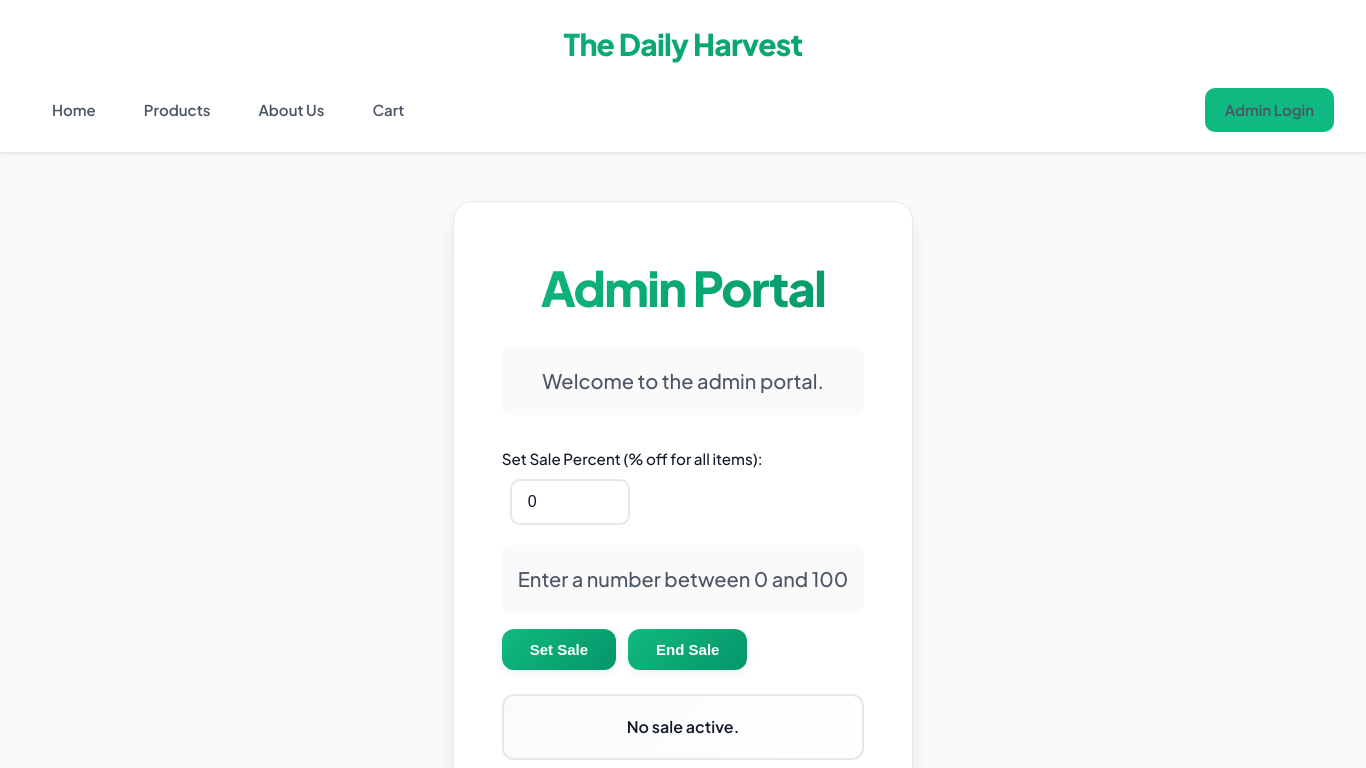
Test: AdminPage › should apply a valid discount when Set Sale button is clicked
The width and height of the screenshot is (1366, 768).
Replace the text in the number field labelled "Set Sale Percent (% off for all items):" with "15": (570, 502) [510,479,630,525]
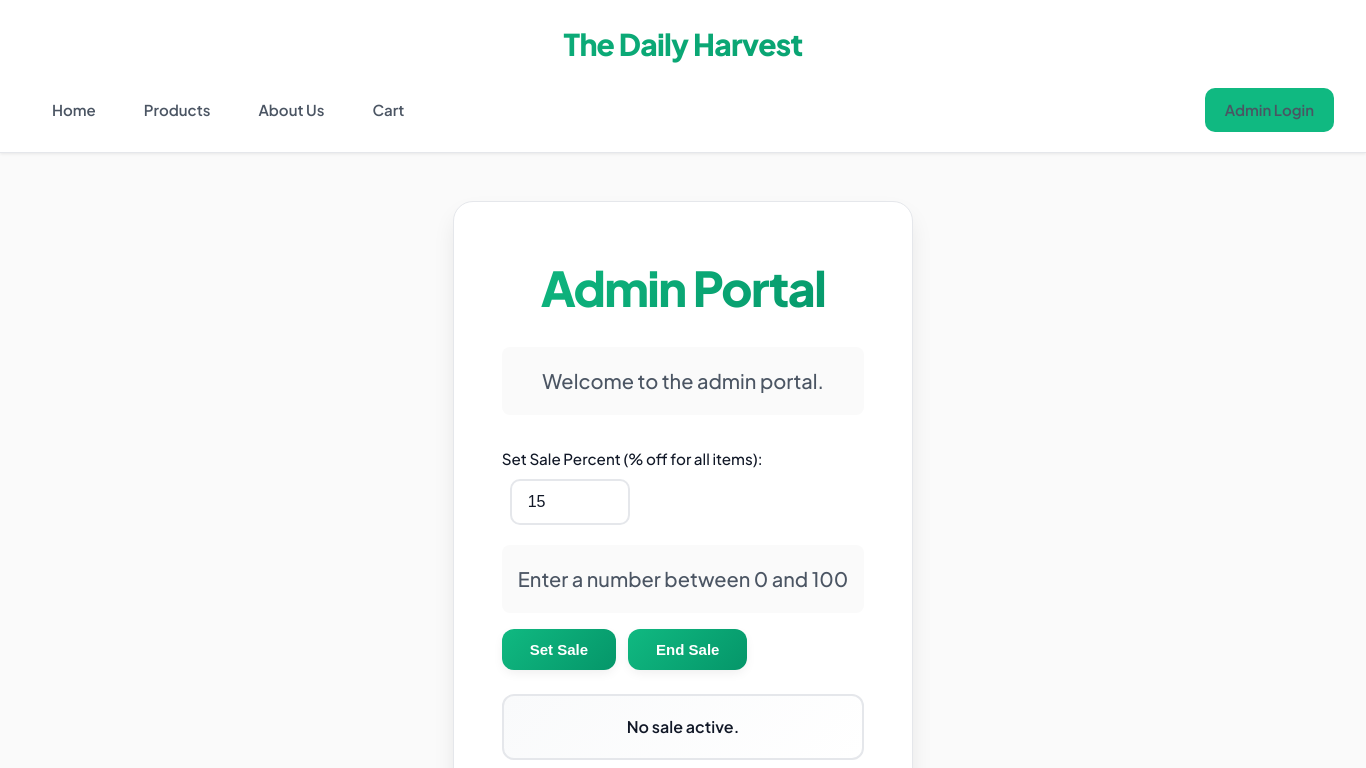
Click the button with aria-label "Apply sale percentage": click(559, 650) [502,629,616,670]
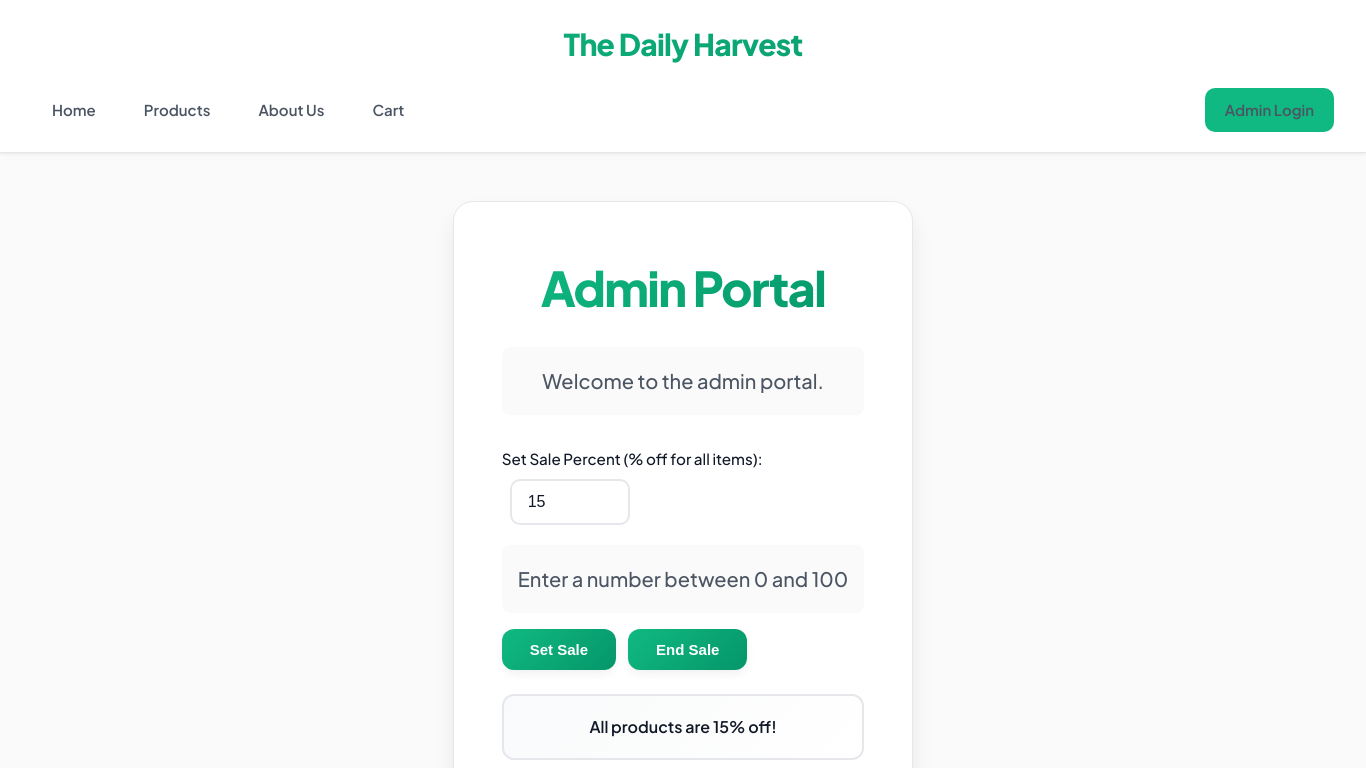
Now the text "All products are 15% off!" is shown, box [502,694,864,760]
Now the message reads "All products are 15% off!", box [589,716,777,737]
